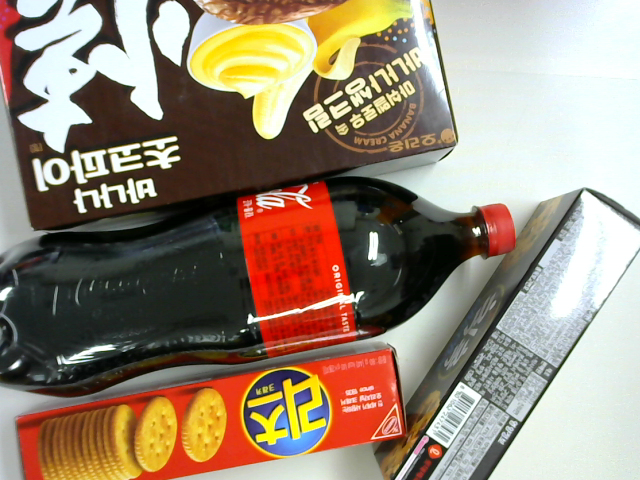Chicchok_Original_2400: (381, 184, 631, 480)
Choco_Pie_Banana: (6, 1, 464, 207)
Coca_Cola_1.5L: (1, 175, 539, 382)
Ritz_Cracker: (29, 339, 420, 480)
